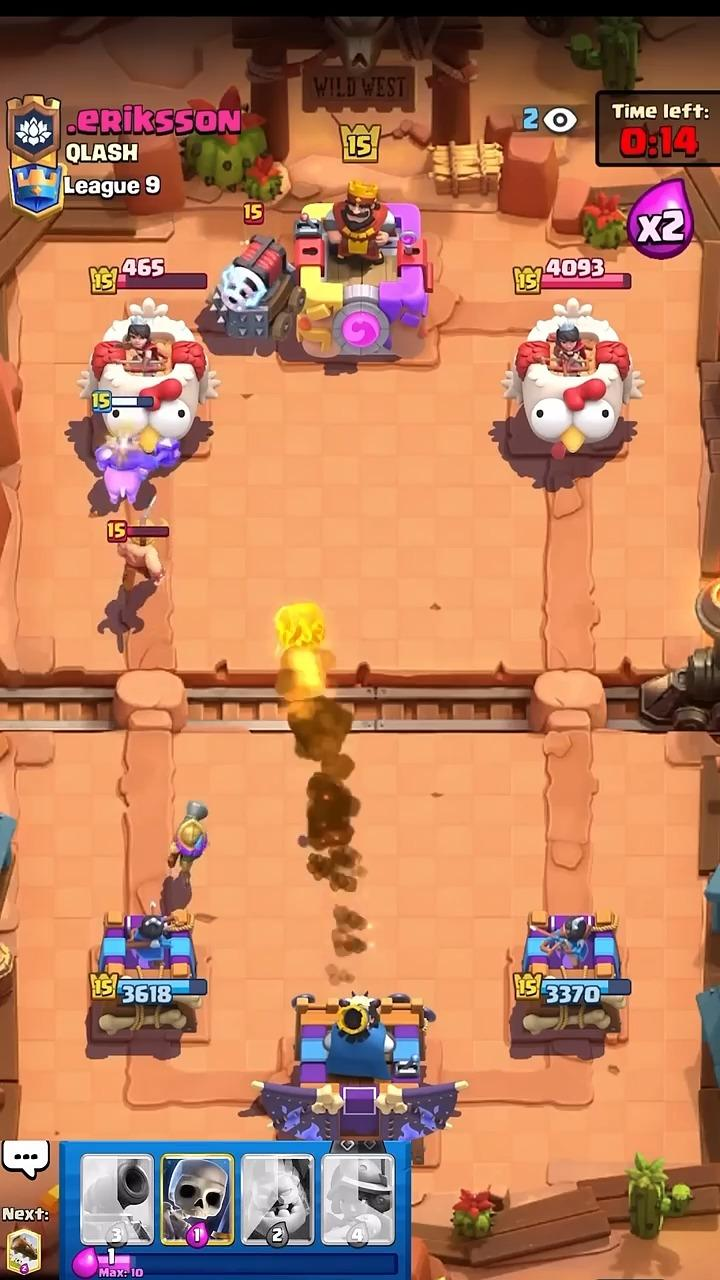elite barbarians: (116, 539, 164, 585)
fireball: (275, 602, 363, 896), (332, 904, 366, 957)
hog rider: (96, 437, 159, 506)
musketeer: (168, 802, 207, 885)
sparky: (209, 235, 305, 346)
